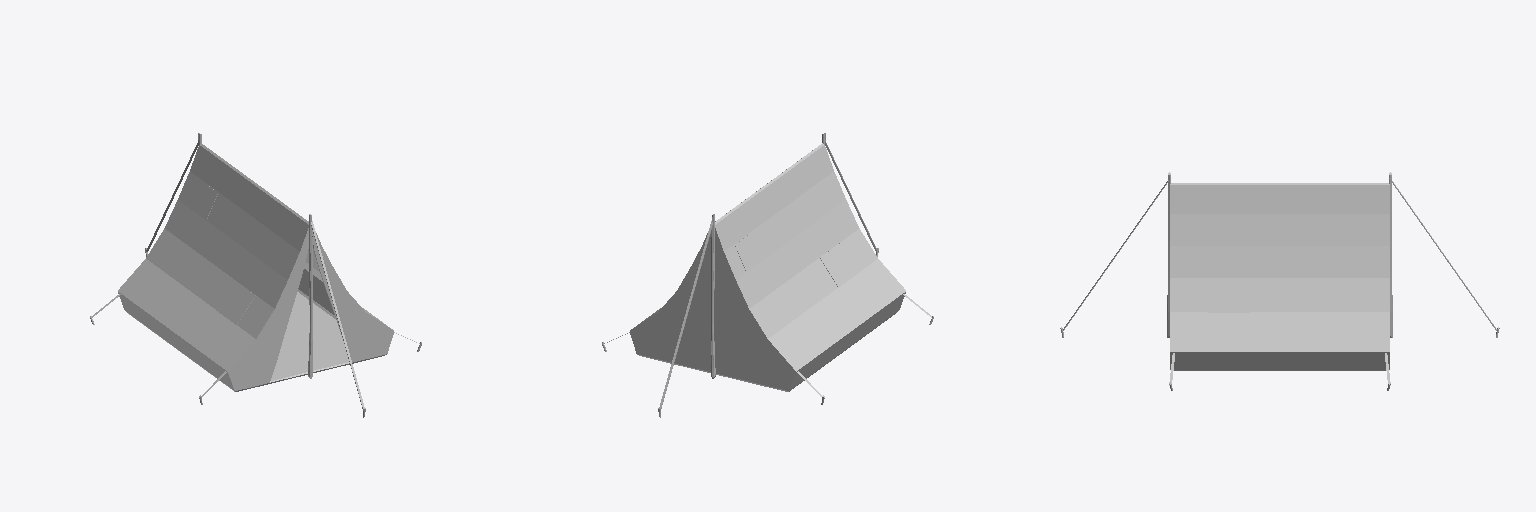
The picture shows the model from 3 angles: view 1: azimuth 30°, elevation 25°; view 2: azimuth 150°, elevation 25°; view 3: azimuth 270°, elevation 25°; orthographic projection.
Parts seen in each view (by area): view 1: Tent.003_Cylinder.009; view 2: Tent.003_Cylinder.009; view 3: Tent.003_Cylinder.009.
Part boxes in pixels (x1,y1,x2,y2): Tent.003_Cylinder.009: (90,133,421,417); Tent.003_Cylinder.009: (602,133,933,417); Tent.003_Cylinder.009: (1060,172,1499,390).
Bounding box in the file's own units: 251 × 178 × 428.